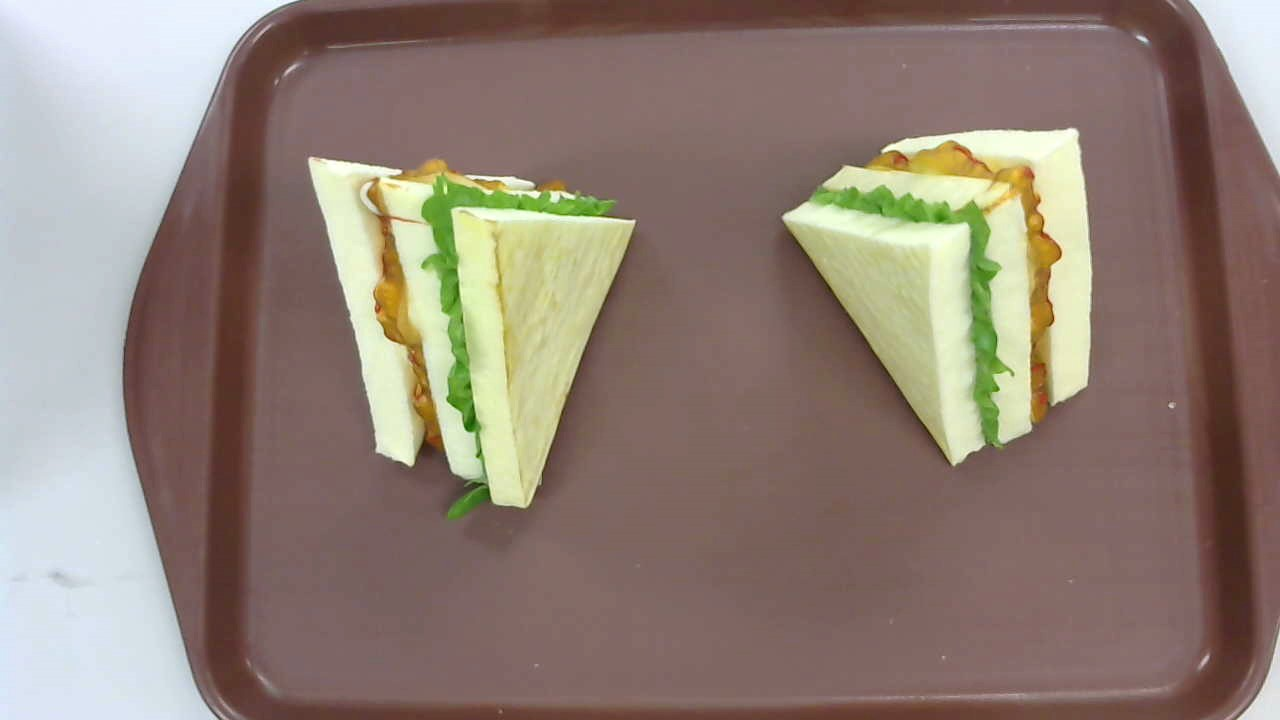sandwich: (303, 154, 638, 522), (780, 127, 1093, 466)
